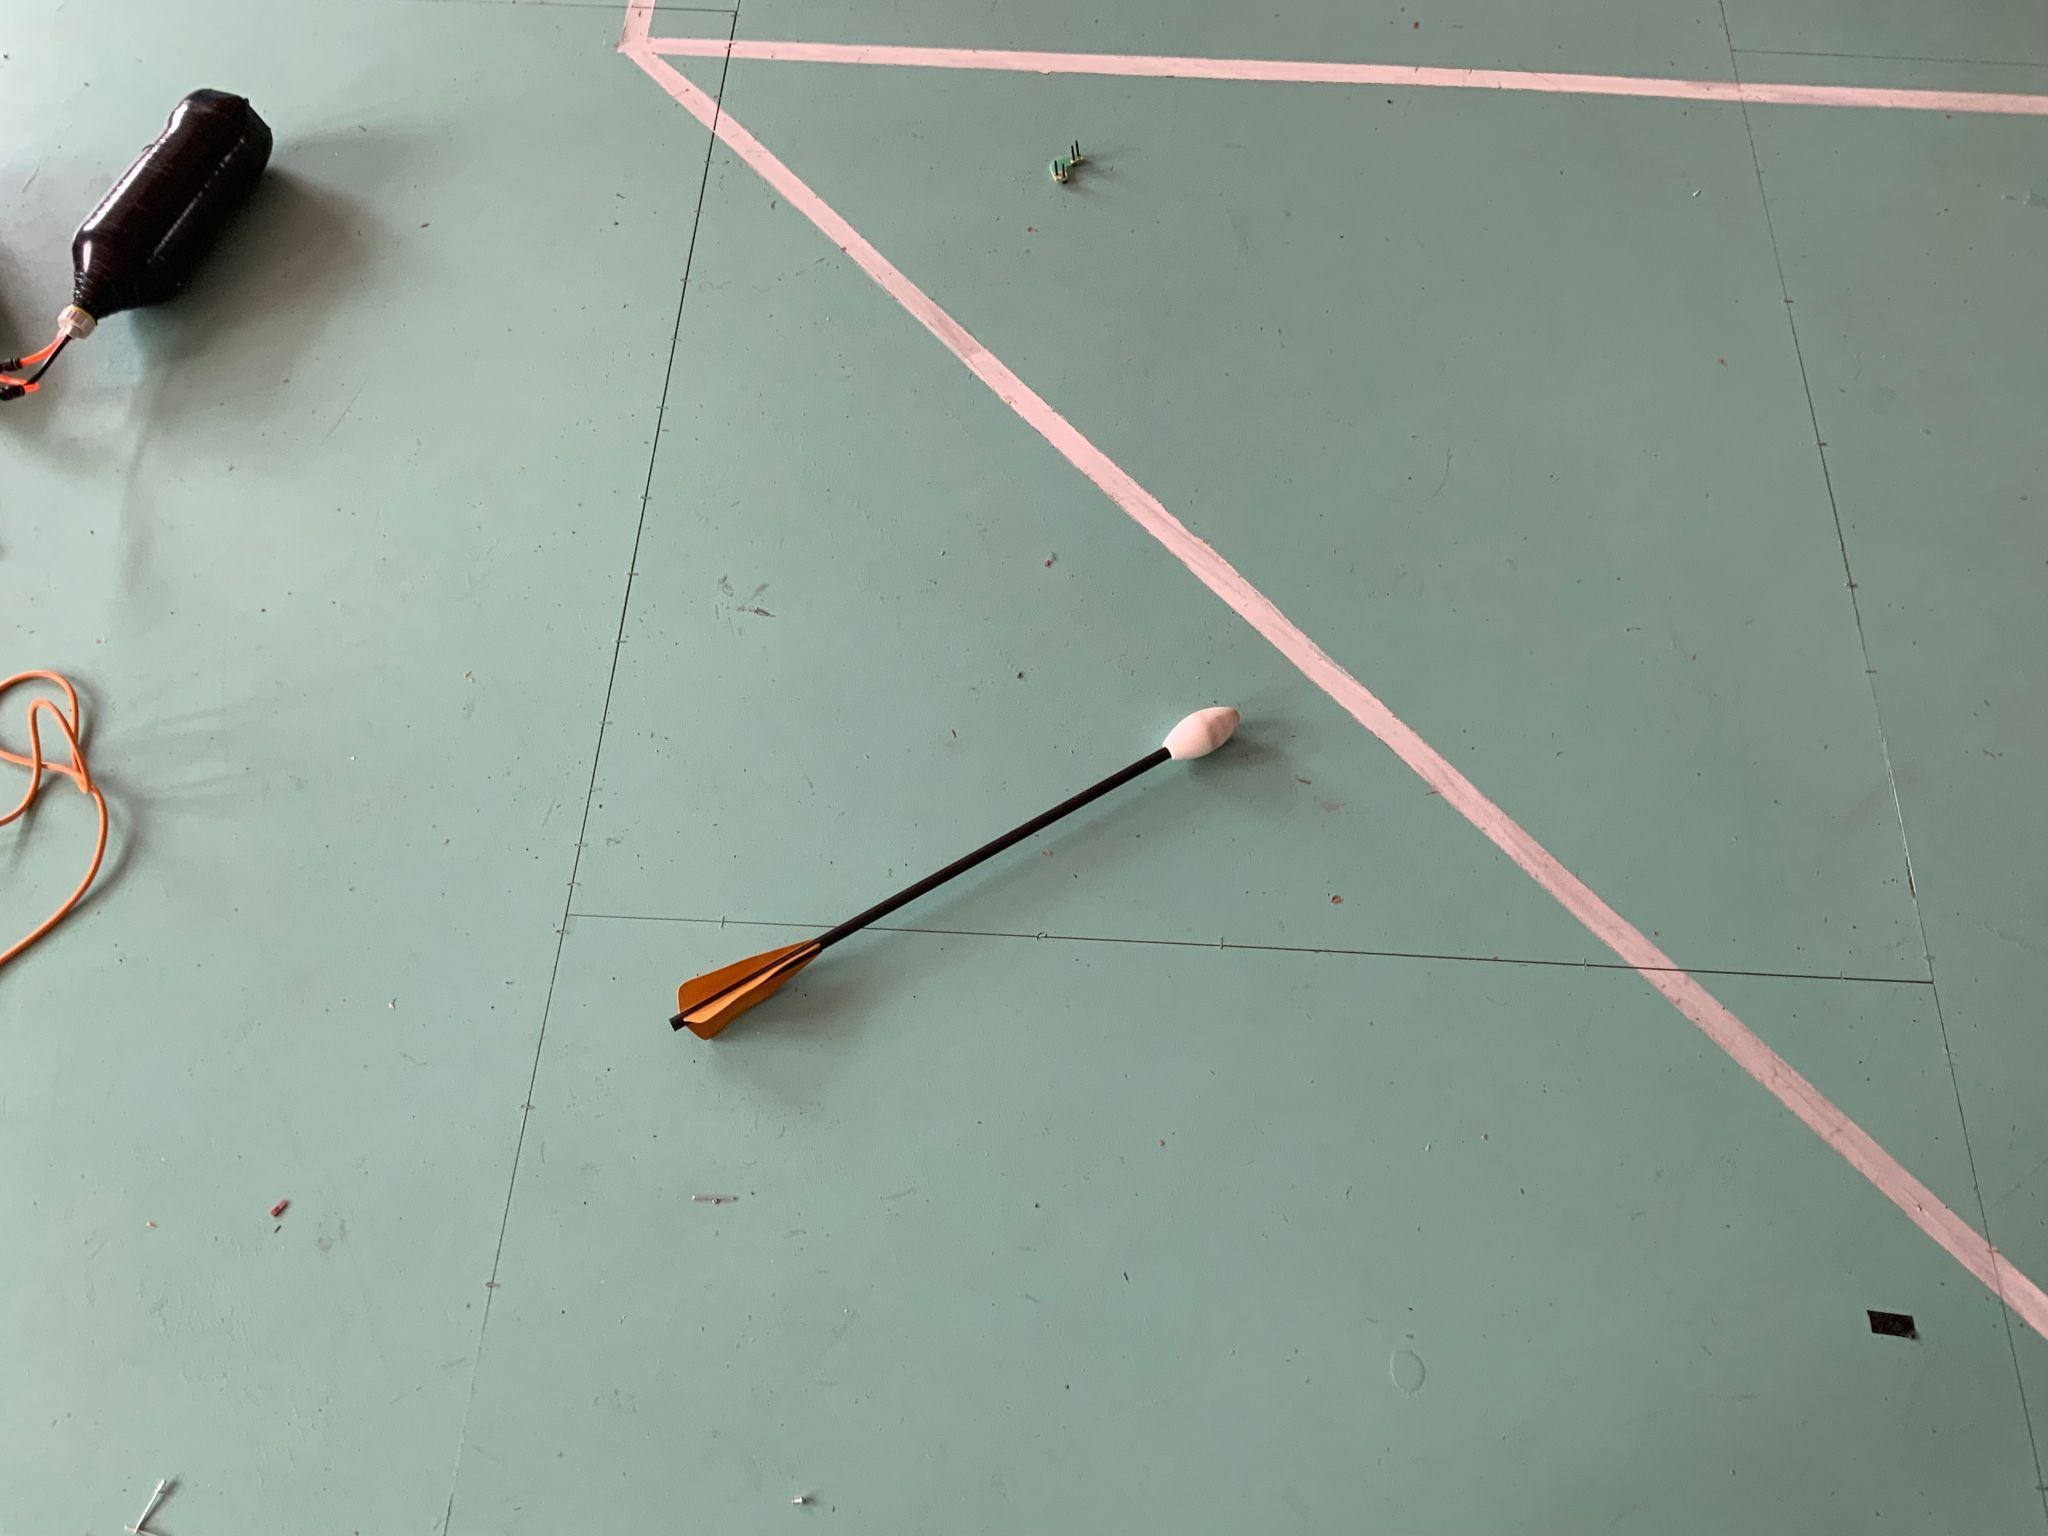arrow: (669, 707, 1238, 1041)
arrowFront: (1158, 707, 1238, 762)
